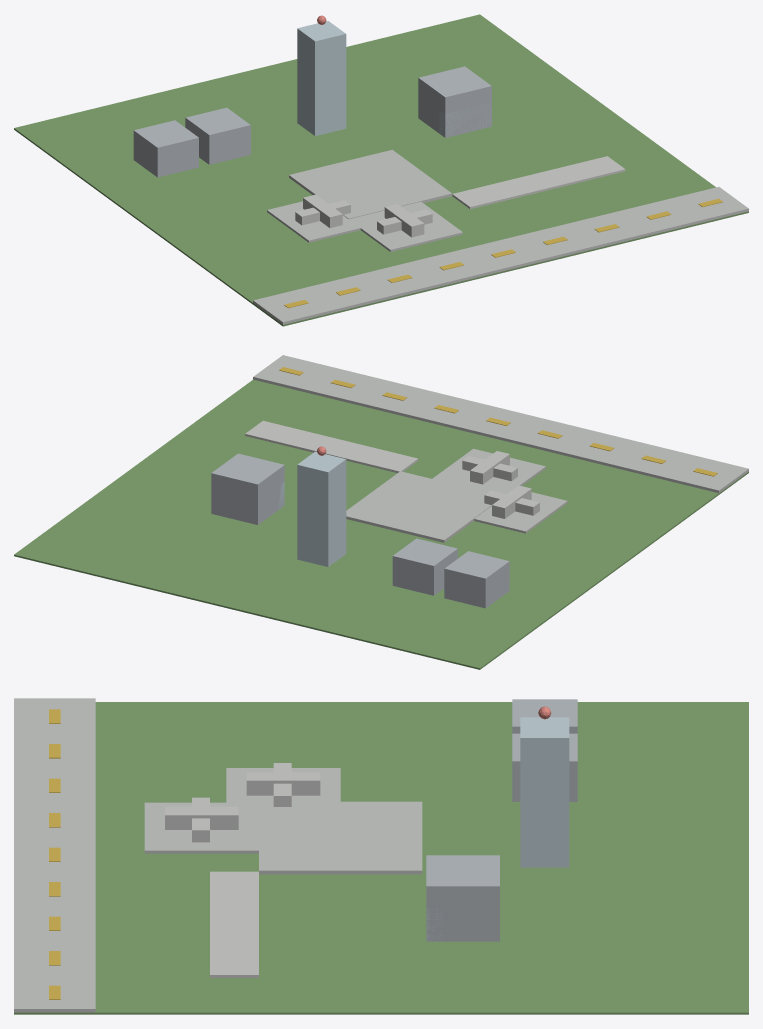
File: stage_08.glb
3 renders of one model, top to bottom at view 1: azimuth 30°, elevation 25°; view 2: azimuth 150°, elevation 25°; view 3: azimuth 270°, elevation 25°, orthographic. The views are drawn at different scales.
Parts seen in each view (by area): view 1: geometry_0; view 2: geometry_0; view 3: geometry_0.
Boxes of the visible parts, x1,y1,x2,y2 form: geometry_0: (14, 14, 748, 326); geometry_0: (14, 355, 748, 669); geometry_0: (14, 698, 748, 1014).
Bounding box in the file's own units: 9 × 2.06 × 9.
